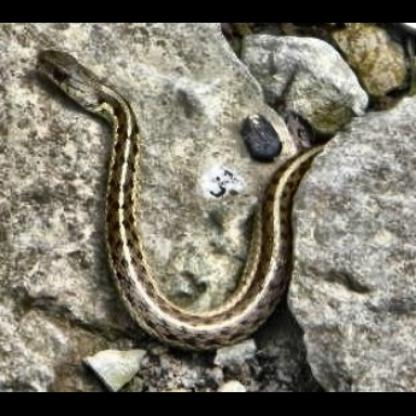Snake: (26, 48, 308, 352)
